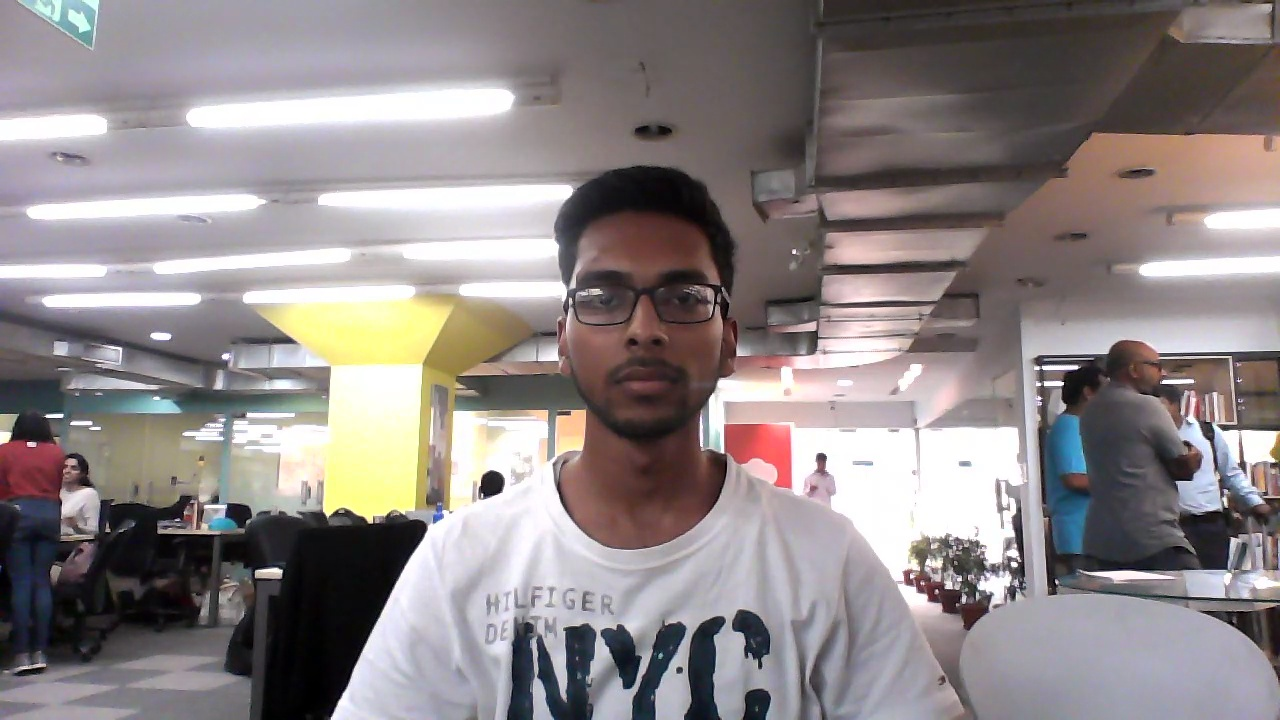open: (548, 164, 731, 450)
